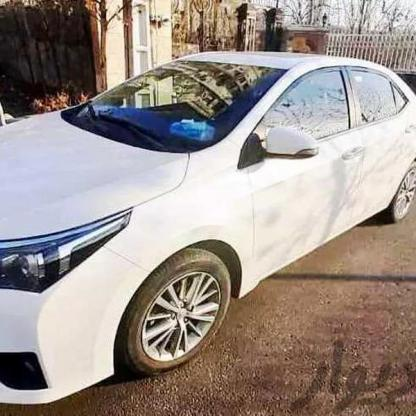Car: (0, 53, 416, 404)
